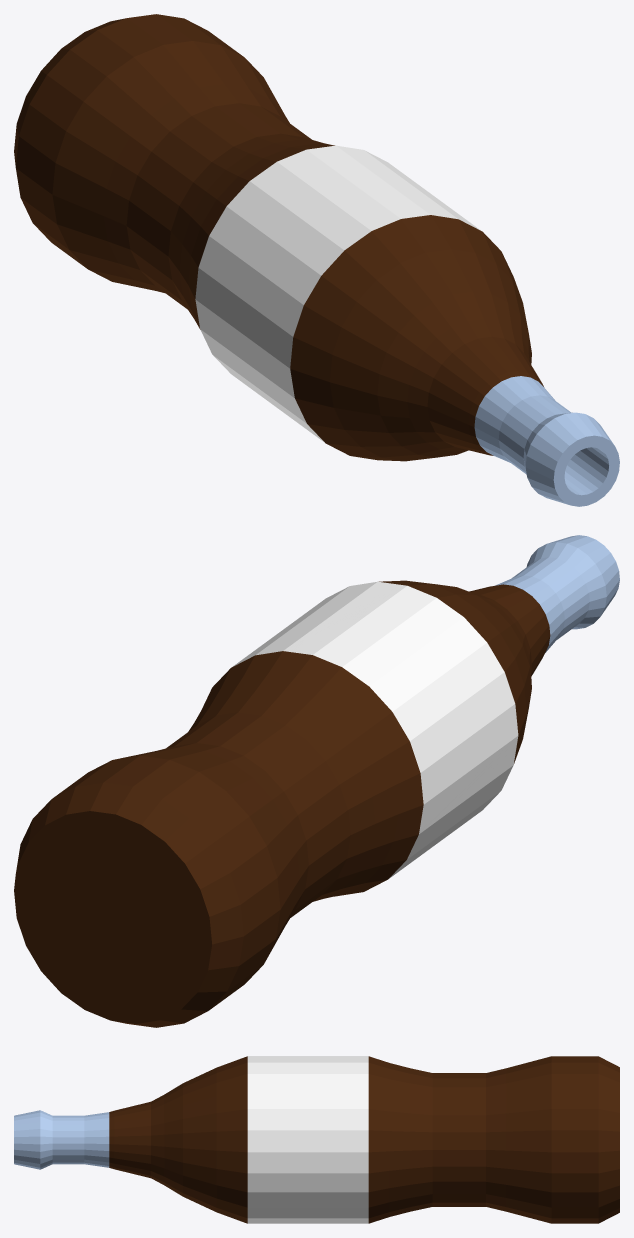
3 renders of one model, top to bottom at view 1: azimuth 30°, elevation 25°; view 2: azimuth 150°, elevation 25°; view 3: azimuth 270°, elevation 25°, orthographic. The views are drawn at different scales.
Visible parts, largest first — view 1: coca cola bottle by kerem kupeli please see my other models; view 2: coca cola bottle by kerem kupeli please see my other models; view 3: coca cola bottle by kerem kupeli please see my other models.
Boxes of the visible parts, bbox=[...] form: coca cola bottle by kerem kupeli please see my other models: bbox=[14, 14, 619, 506]; coca cola bottle by kerem kupeli please see my other models: bbox=[14, 535, 619, 1027]; coca cola bottle by kerem kupeli please see my other models: bbox=[14, 1056, 619, 1223].
Bounding box in the file's own units: 76.47 × 76.47 × 275.
